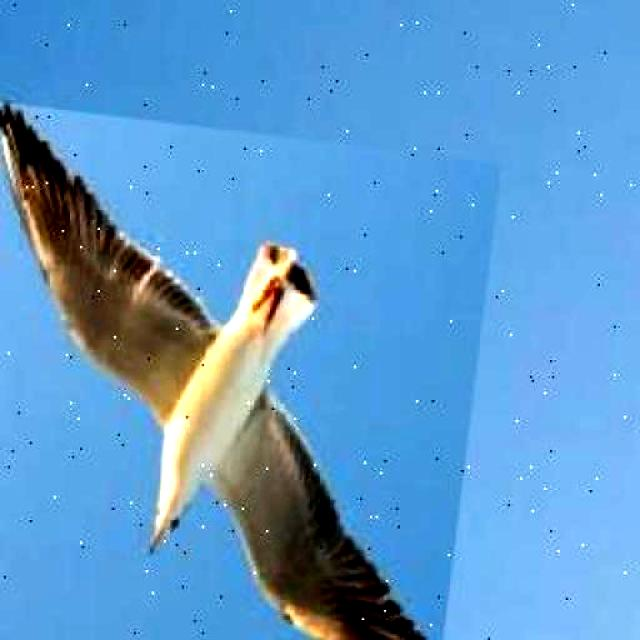airplane: (0, 101, 501, 640)
